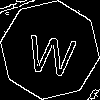W: (25, 25, 79, 78)
